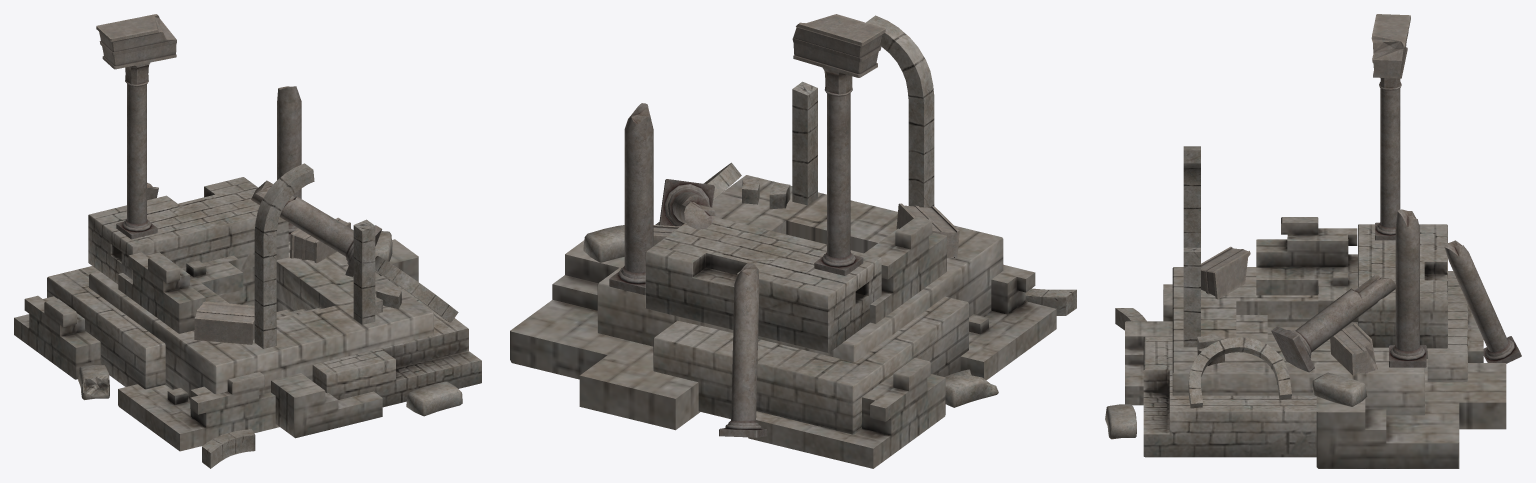
Rendered from sb_obj_outdoor010_Landmark_AncientTemple.fbx.
3 renders of one model, left to right at view 1: azimuth 30°, elevation 25°; view 2: azimuth 150°, elevation 25°; view 3: azimuth 270°, elevation 25°, orthographic. The views are drawn at different scales.
Visible parts, largest first — view 1: sb_obj_outdoor010_Landmark_AncientTemple; view 2: sb_obj_outdoor010_Landmark_AncientTemple; view 3: sb_obj_outdoor010_Landmark_AncientTemple.
Part boxes in pixels (x1,y1,x2,y2): sb_obj_outdoor010_Landmark_AncientTemple: (14,14,481,468); sb_obj_outdoor010_Landmark_AncientTemple: (510,14,1076,468); sb_obj_outdoor010_Landmark_AncientTemple: (1105,14,1521,468).
Size of the model in its own units: 1.08 by 0.99 by 1.15.
